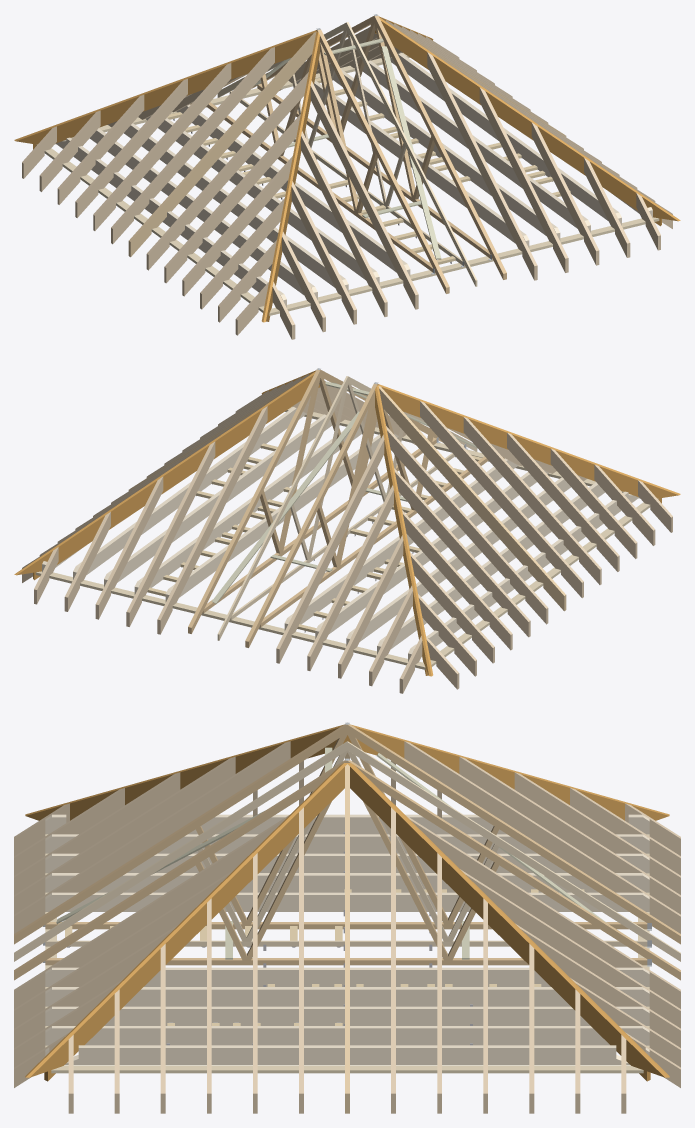
File: stage-5.glb
The picture shows the model from 3 angles, top to bottom: view 1: azimuth 30°, elevation 25°; view 2: azimuth 150°, elevation 25°; view 3: azimuth 270°, elevation 25°; orthographic projection. The views are drawn at different scales.
Visible parts, largest first — view 1: Geom3D_JH05 jack hip 63 x 220 C24 L914, Geom3D_CJ51 ceiling joist 75 x 245 C24 L7871, Geom3D_H01 hip 75 x 295 C24 L6424, Geom3D_Ply 1, Geom3D_CR21 crown 63 x 220 C24 L4798, Geom3D, Geom3D_TC61 truss chord 35 x 97 TR26 L5303, Geom3D_47 x 97 TR26 flat ceiling noggin 525 (F7), Geom3D_BN82 binder 22 x 97 C16 L1147, Geom3D_TW64 truss web 35 x 72 TR26 L1606; view 2: Geom3D_JH05 jack hip 63 x 220 C24 L914, Geom3D_CJ51 ceiling joist 75 x 245 C24 L7871, Geom3D_H01 hip 75 x 295 C24 L6424, Geom3D_Ply 1, Geom3D_CR21 crown 63 x 220 C24 L4798, Geom3D, Geom3D_TC61 truss chord 35 x 97 TR26 L5303, Geom3D_47 x 97 TR26 flat ceiling noggin 525 (F7), Geom3D_BN82 binder 22 x 97 C16 L1147, Geom3D_TW64 truss web 35 x 72 TR26 L1606; view 3: Geom3D_JH05 jack hip 63 x 220 C24 L914, Geom3D_CJ51 ceiling joist 75 x 245 C24 L7871, Geom3D_Ply 1, Geom3D_H01 hip 75 x 295 C24 L6424, Geom3D_TC61 truss chord 35 x 97 TR26 L5303, Geom3D, Geom3D_TW64 truss web 35 x 72 TR26 L1606, Geom3D_BN82 binder 22 x 97 C16 L1147, Geom3D_CR21 crown 63 x 220 C24 L4798, Geom3D_47 x 97 TR26 flat ceiling noggin 525 (F7).
Part boxes in pixels (x1,y1,x2,y2): Geom3D_JH05 jack hip 63 x 220 C24 L914: [22, 20, 672, 339]; Geom3D_CJ51 ceiling joist 75 x 245 C24 L7871: [55, 53, 652, 307]; Geom3D_H01 hip 75 x 295 C24 L6424: [14, 16, 680, 322]; Geom3D_Ply 1: [190, 15, 506, 293]; Geom3D_CR21 crown 63 x 220 C24 L4798: [128, 18, 566, 257]; Geom3D: [36, 53, 659, 315]; Geom3D_TC61 truss chord 35 x 97 TR26 L5303: [217, 22, 477, 286]; Geom3D_47 x 97 TR26 flat ceiling noggin 525 (F7): [167, 77, 570, 264]; Geom3D_BN82 binder 22 x 97 C16 L1147: [254, 38, 441, 259]; Geom3D_TW64 truss web 35 x 72 TR26 L1606: [291, 29, 406, 206]; Geom3D_JH05 jack hip 63 x 220 C24 L914: [22, 374, 672, 693]; Geom3D_CJ51 ceiling joist 75 x 245 C24 L7871: [42, 407, 639, 661]; Geom3D_H01 hip 75 x 295 C24 L6424: [14, 370, 680, 676]; Geom3D_Ply 1: [188, 369, 504, 647]; Geom3D_CR21 crown 63 x 220 C24 L4798: [128, 372, 566, 611]; Geom3D: [35, 407, 658, 669]; Geom3D_TC61 truss chord 35 x 97 TR26 L5303: [217, 376, 477, 640]; Geom3D_47 x 97 TR26 flat ceiling noggin 525 (F7): [147, 443, 481, 632]; Geom3D_BN82 binder 22 x 97 C16 L1147: [212, 381, 477, 603]; Geom3D_TW64 truss web 35 x 72 TR26 L1606: [290, 383, 406, 560]; Geom3D_JH05 jack hip 63 x 220 C24 L914: [14, 741, 680, 1113]; Geom3D_CJ51 ceiling joist 75 x 245 C24 L7871: [45, 814, 649, 1064]; Geom3D_Ply 1: [14, 724, 680, 980]; Geom3D_H01 hip 75 x 295 C24 L6424: [25, 725, 669, 1081]; Geom3D_TC61 truss chord 35 x 97 TR26 L5303: [14, 741, 680, 961]; Geom3D: [45, 834, 649, 1073]; Geom3D_TW64 truss web 35 x 72 TR26 L1606: [196, 750, 498, 941]; Geom3D_BN82 binder 22 x 97 C16 L1147: [56, 747, 607, 959]; Geom3D_CR21 crown 63 x 220 C24 L4798: [345, 752, 349, 1113]; Geom3D_47 x 97 TR26 flat ceiling noggin 525 (F7): [65, 889, 584, 1025].
Bounding box in the file's own units: 8.46 × 3.37 × 8.69.
